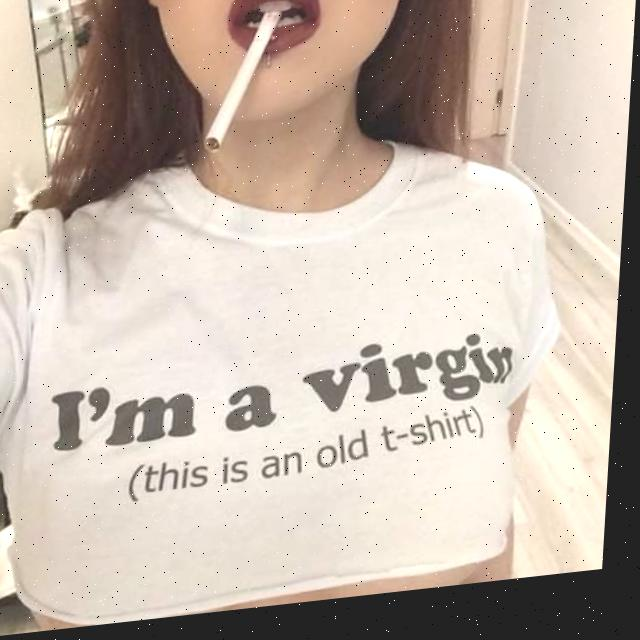cigarette: (203, 15, 285, 161)
